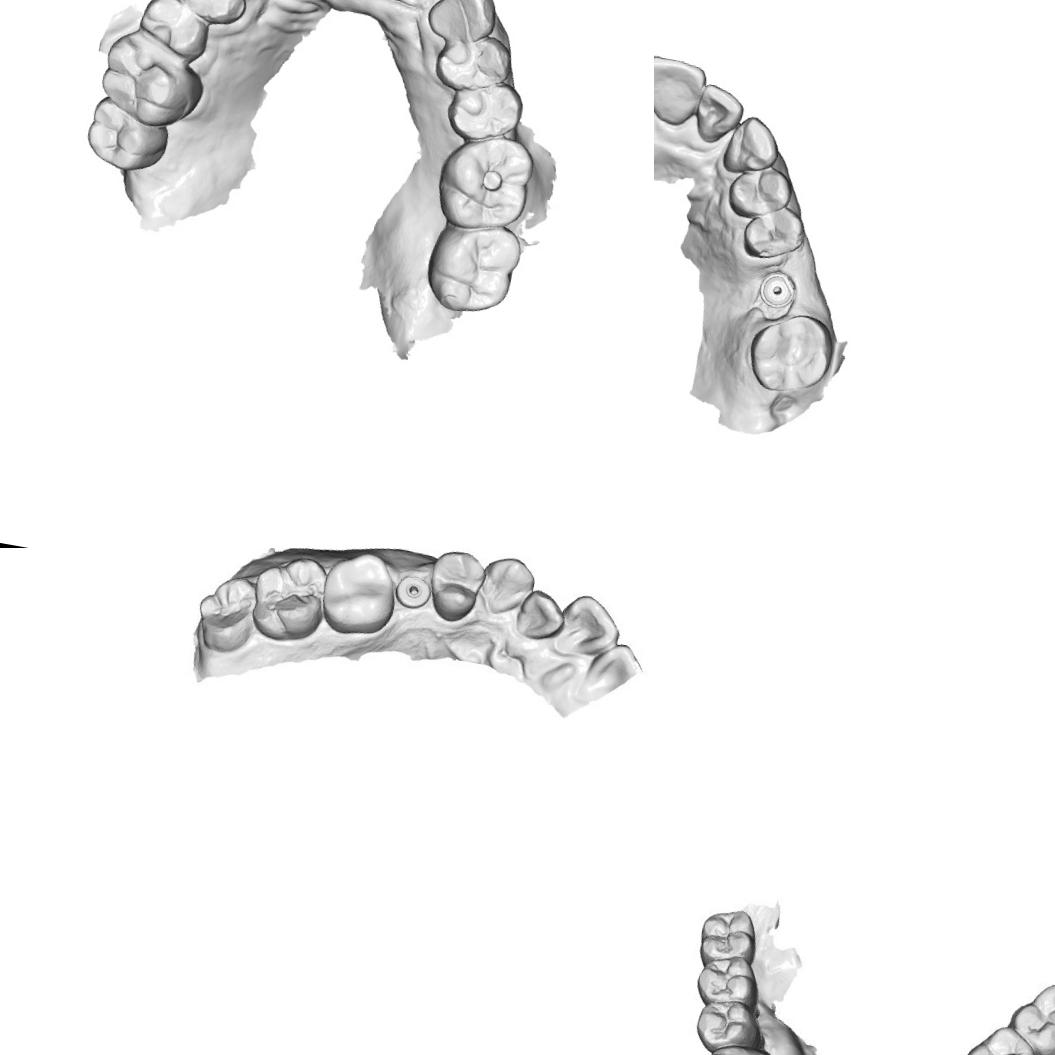canine: (719, 111, 784, 179), (476, 550, 538, 618), (421, 0, 503, 49), (701, 1038, 780, 1055)
implant: (391, 568, 434, 613), (756, 268, 799, 310)
incisor: (558, 589, 626, 656), (654, 51, 709, 129), (691, 81, 747, 148), (510, 586, 564, 643)
molar: (89, 25, 212, 134), (428, 127, 538, 238), (416, 214, 525, 323), (742, 306, 837, 400), (313, 548, 400, 645), (245, 548, 331, 646), (80, 95, 170, 177), (189, 568, 263, 656), (692, 901, 763, 974), (999, 975, 1055, 1055), (955, 1020, 1040, 1055)
premolar: (429, 25, 515, 101), (440, 74, 528, 148), (132, 0, 217, 62), (427, 548, 491, 626), (738, 198, 809, 266), (724, 159, 796, 225), (689, 994, 764, 1055), (693, 952, 766, 1012), (165, 0, 250, 28)
